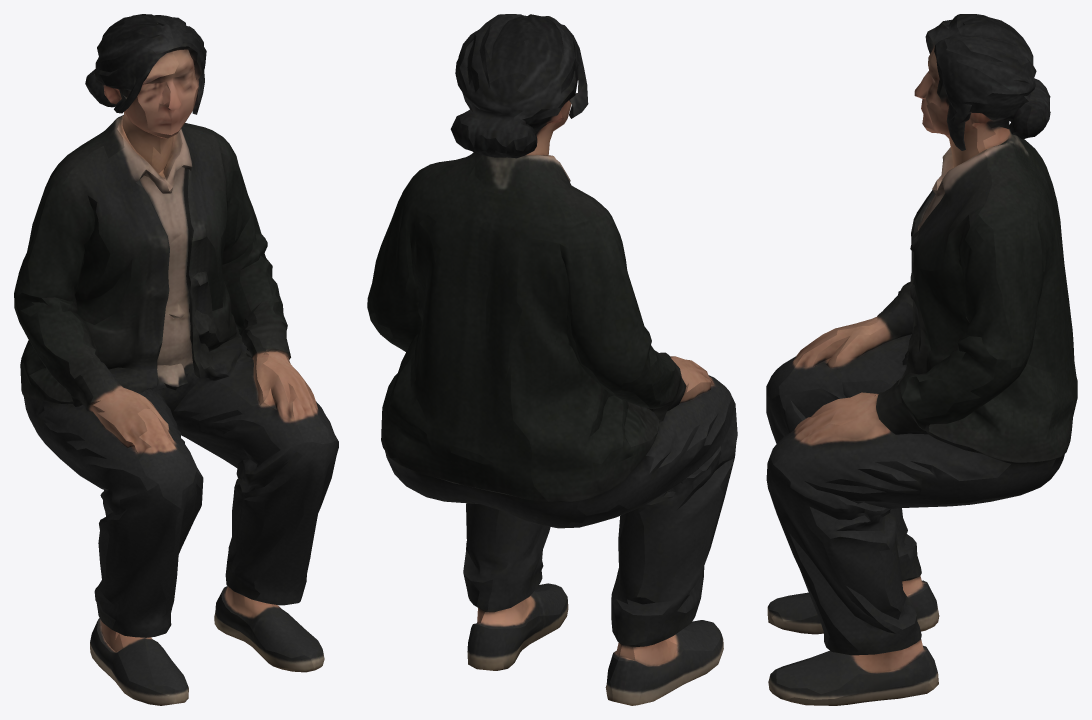
Rendered from zhou-seated.glb.
3 renders of one model, left to right at view 1: azimuth 30°, elevation 25°; view 2: azimuth 150°, elevation 25°; view 3: azimuth 270°, elevation 25°, orthographic. The views are drawn at different scales.
Visible parts, largest first — view 1: world; view 2: world; view 3: world.
Boxes of the visible parts, x1,y1,x2,y2 form: world: (14,14,338,705); world: (367,14,737,705); world: (766,14,1077,705).
Size of the model in its own units: 0.4264 by 1 by 0.4438.
Materials: 1 (1 with a texture image).
